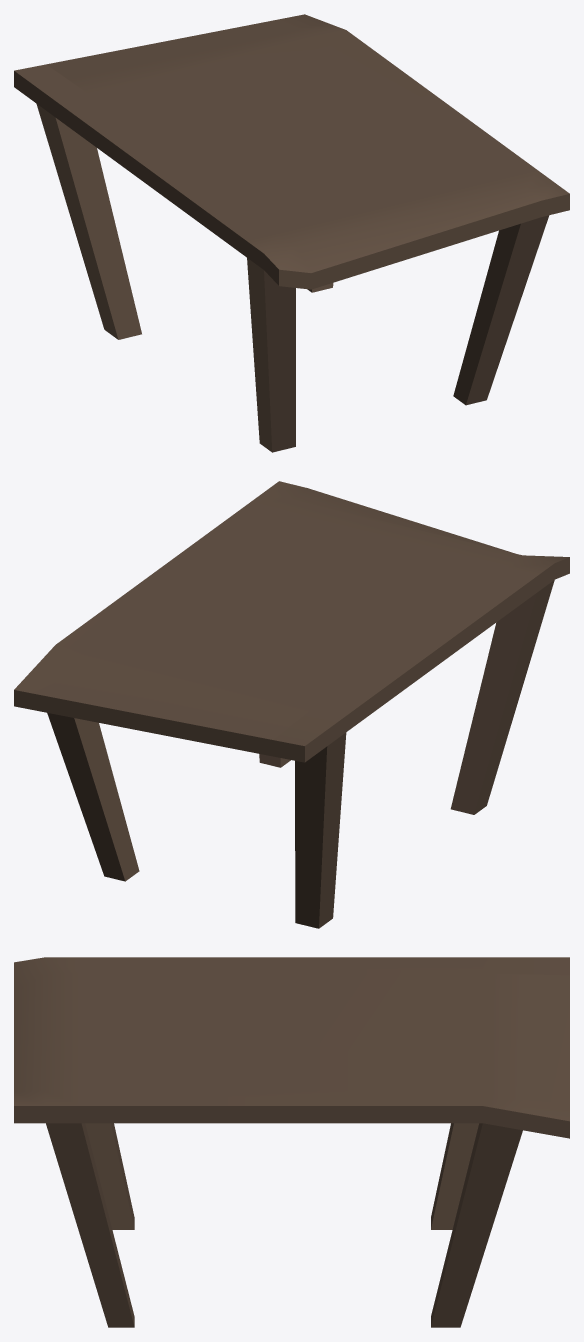
File: SM_table_A.fbx
3 views of the same model, one above another, from view 1: azimuth 30°, elevation 25°; view 2: azimuth 150°, elevation 25°; view 3: azimuth 270°, elevation 25° (orthographic). The views are drawn at different scales.
Parts seen in each view (by area): view 1: pCube52; view 2: pCube52; view 3: pCube52.
Boxes of the visible parts, left/top/right/bottom form: pCube52: left=14, top=14, right=569, bottom=452; pCube52: left=14, top=481, right=569, bottom=928; pCube52: left=14, top=957, right=569, bottom=1327.
Size of the model in its own units: 138 by 104 by 218.
